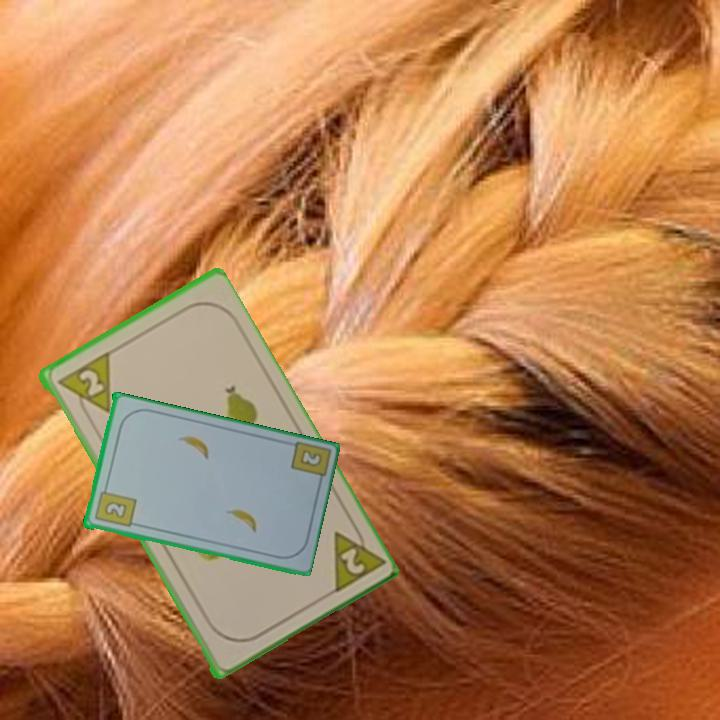2b: (91, 482, 138, 530), (296, 446, 324, 470)
2p: (326, 516, 385, 597), (53, 349, 114, 424)
